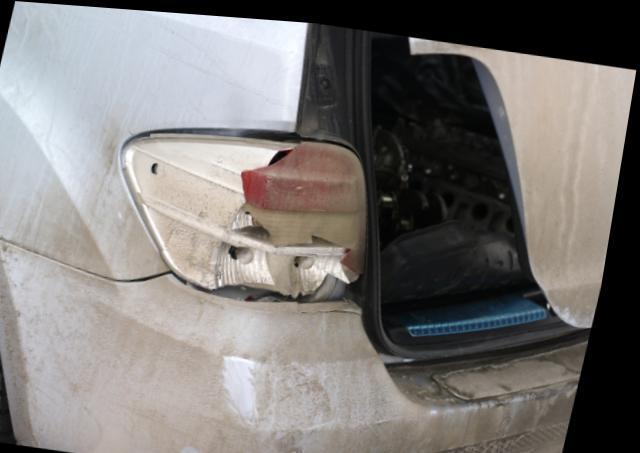lamp broken: (130, 125, 373, 297)
